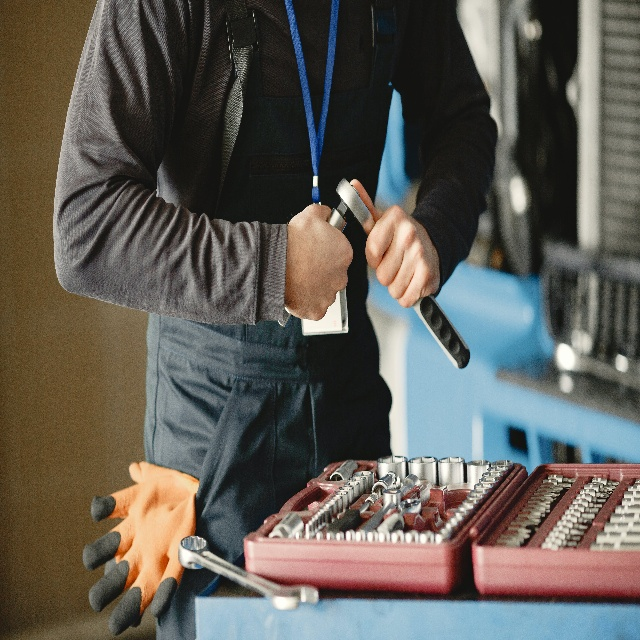Guantes: (82, 460, 203, 631)
Sin_guantes: (350, 178, 440, 306), (286, 203, 356, 322)
